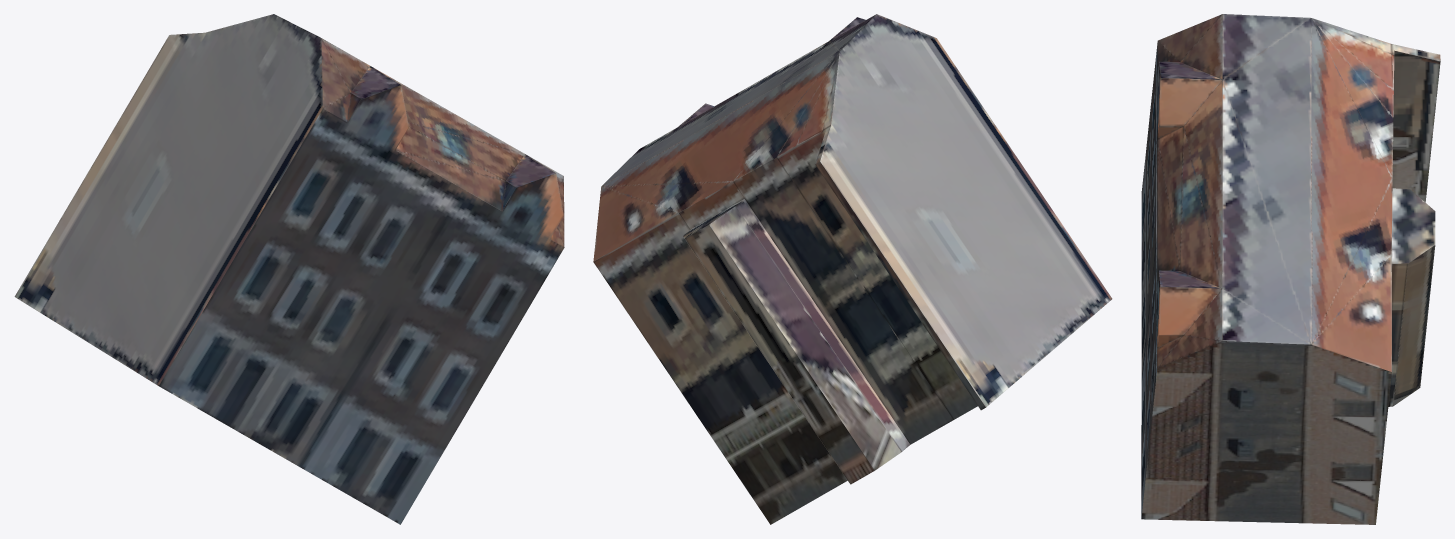
3 views of the same model, side by side, from view 1: azimuth 30°, elevation 25°; view 2: azimuth 150°, elevation 25°; view 3: azimuth 270°, elevation 25° (orthographic). The views are drawn at different scales.
Visible parts, largest first — view 1: BAG_0599100000688736 (×6); view 2: BAG_0599100000688736 (×5); view 3: BAG_0599100000688736 (×6).
Boxes of the visible parts, <box> form: BAG_0599100000688736 (×6): <box>14,14,564,524</box>; BAG_0599100000688736 (×5): <box>593,14,1112,524</box>; BAG_0599100000688736 (×6): <box>1141,14,1440,524</box>.
Size of the model in its own units: 17.43 by 17.55 by 9.64.
1 material, 1 textured.
